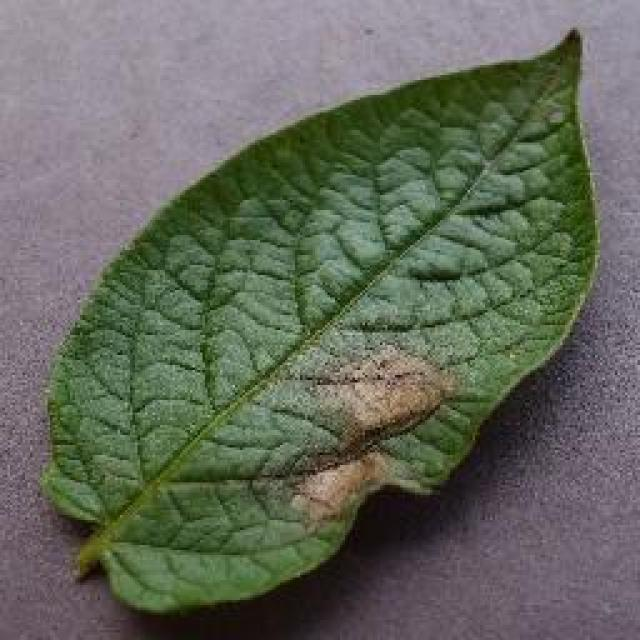late_blight: (35, 22, 605, 618)
